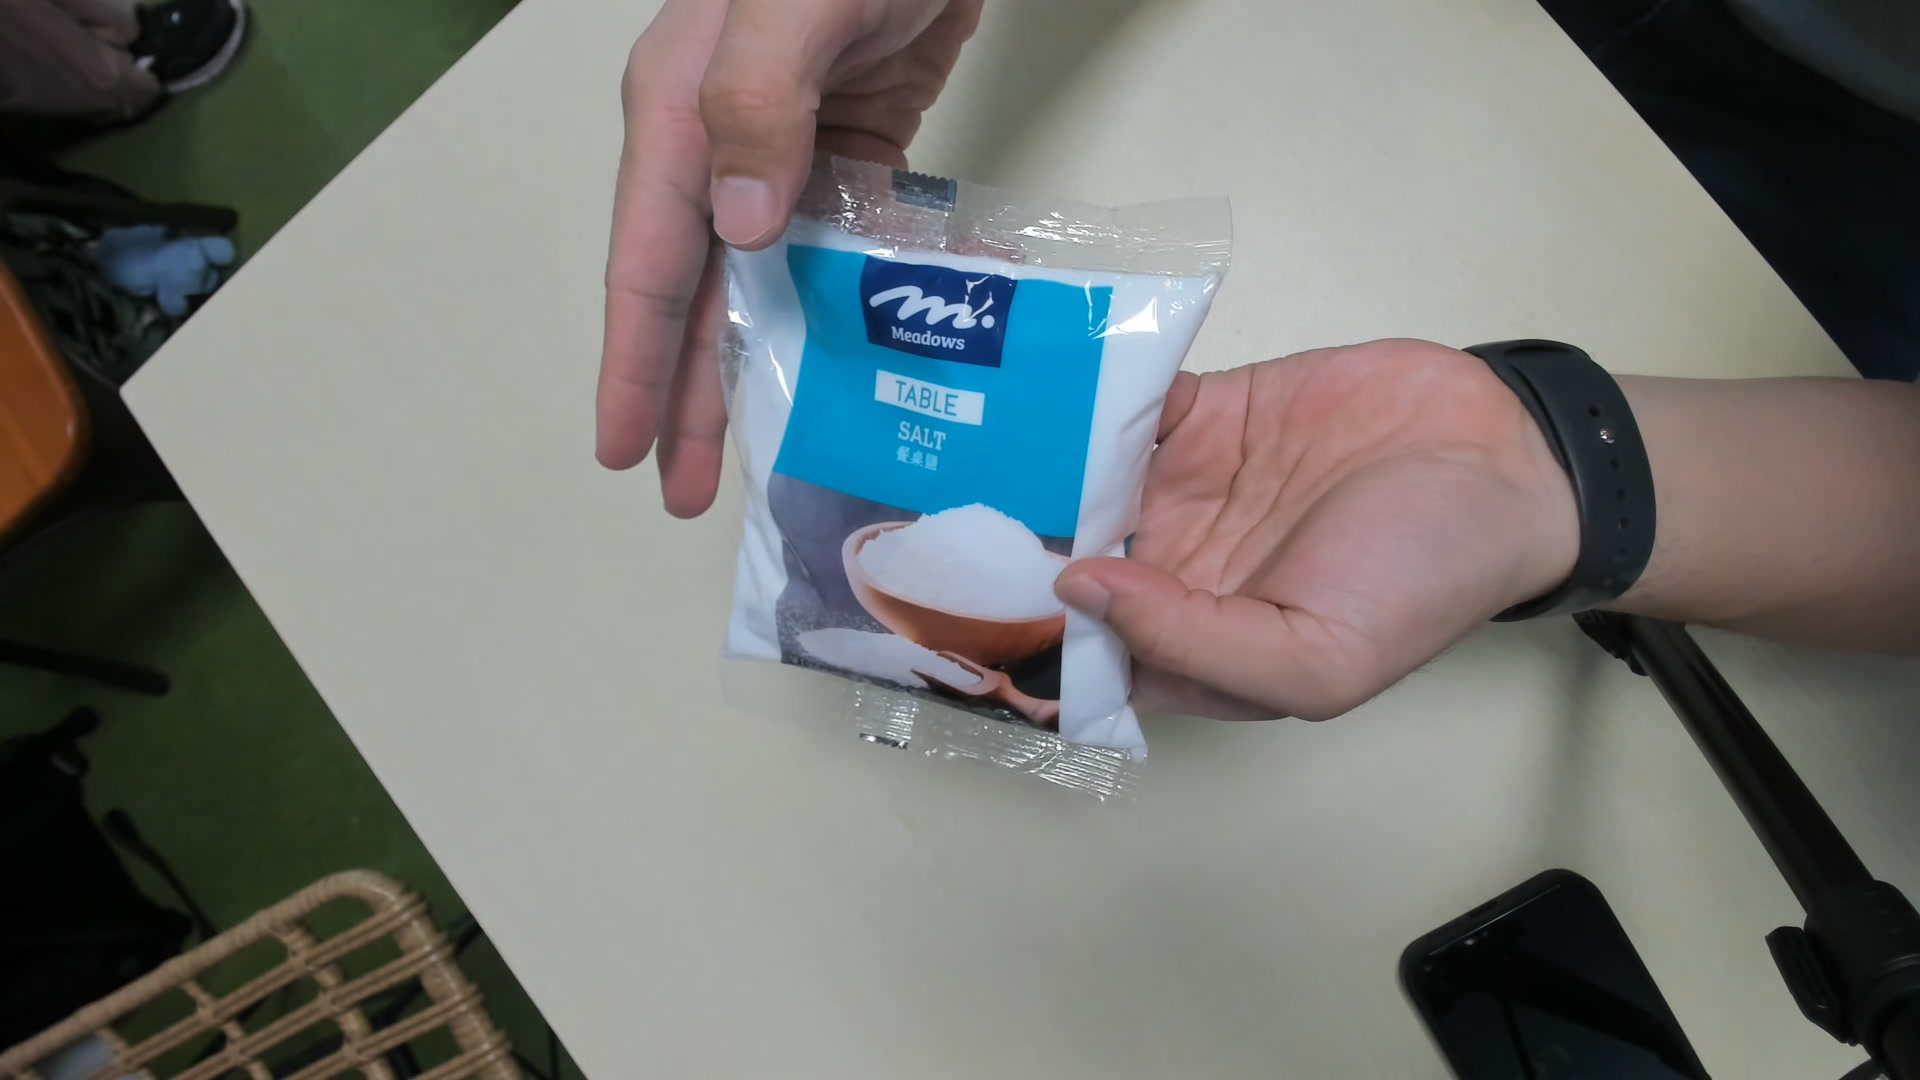Salt_400-499g_NonHalal_NonHealthy: (702, 160, 1215, 802)
